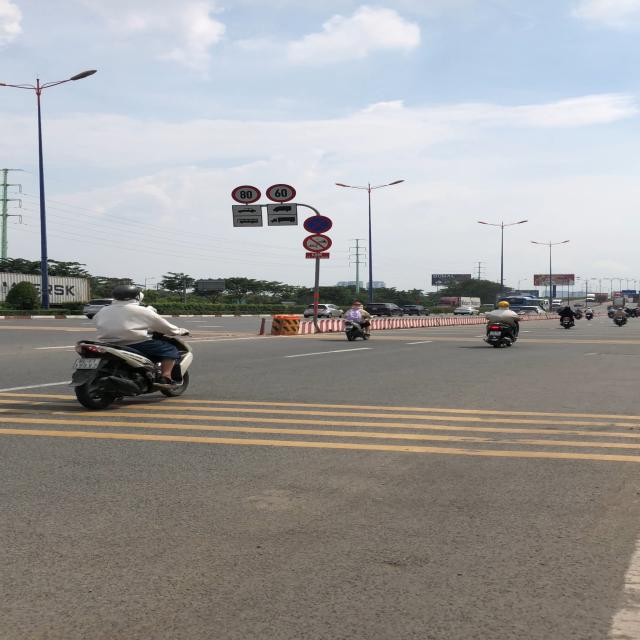Bien bao cam dung xe va do xe: (302, 215, 332, 234)
Bien bao toc do toi da cho phep: (266, 184, 298, 202), (231, 185, 261, 204)
